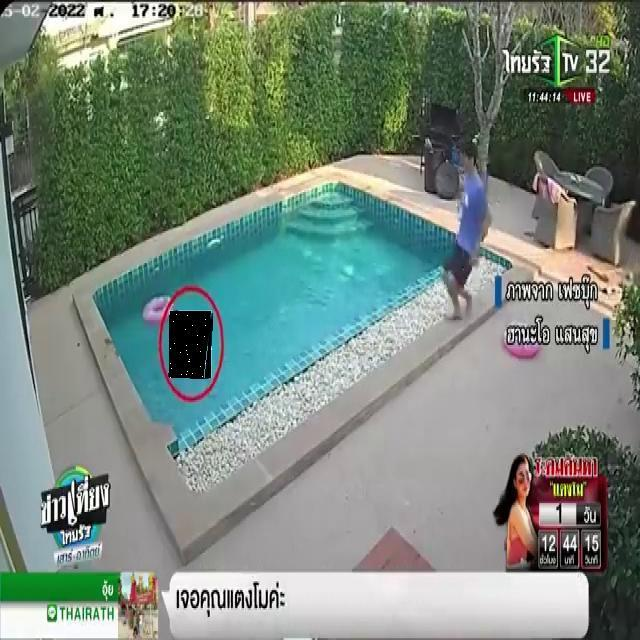Out of Water: (169, 311, 212, 378)
